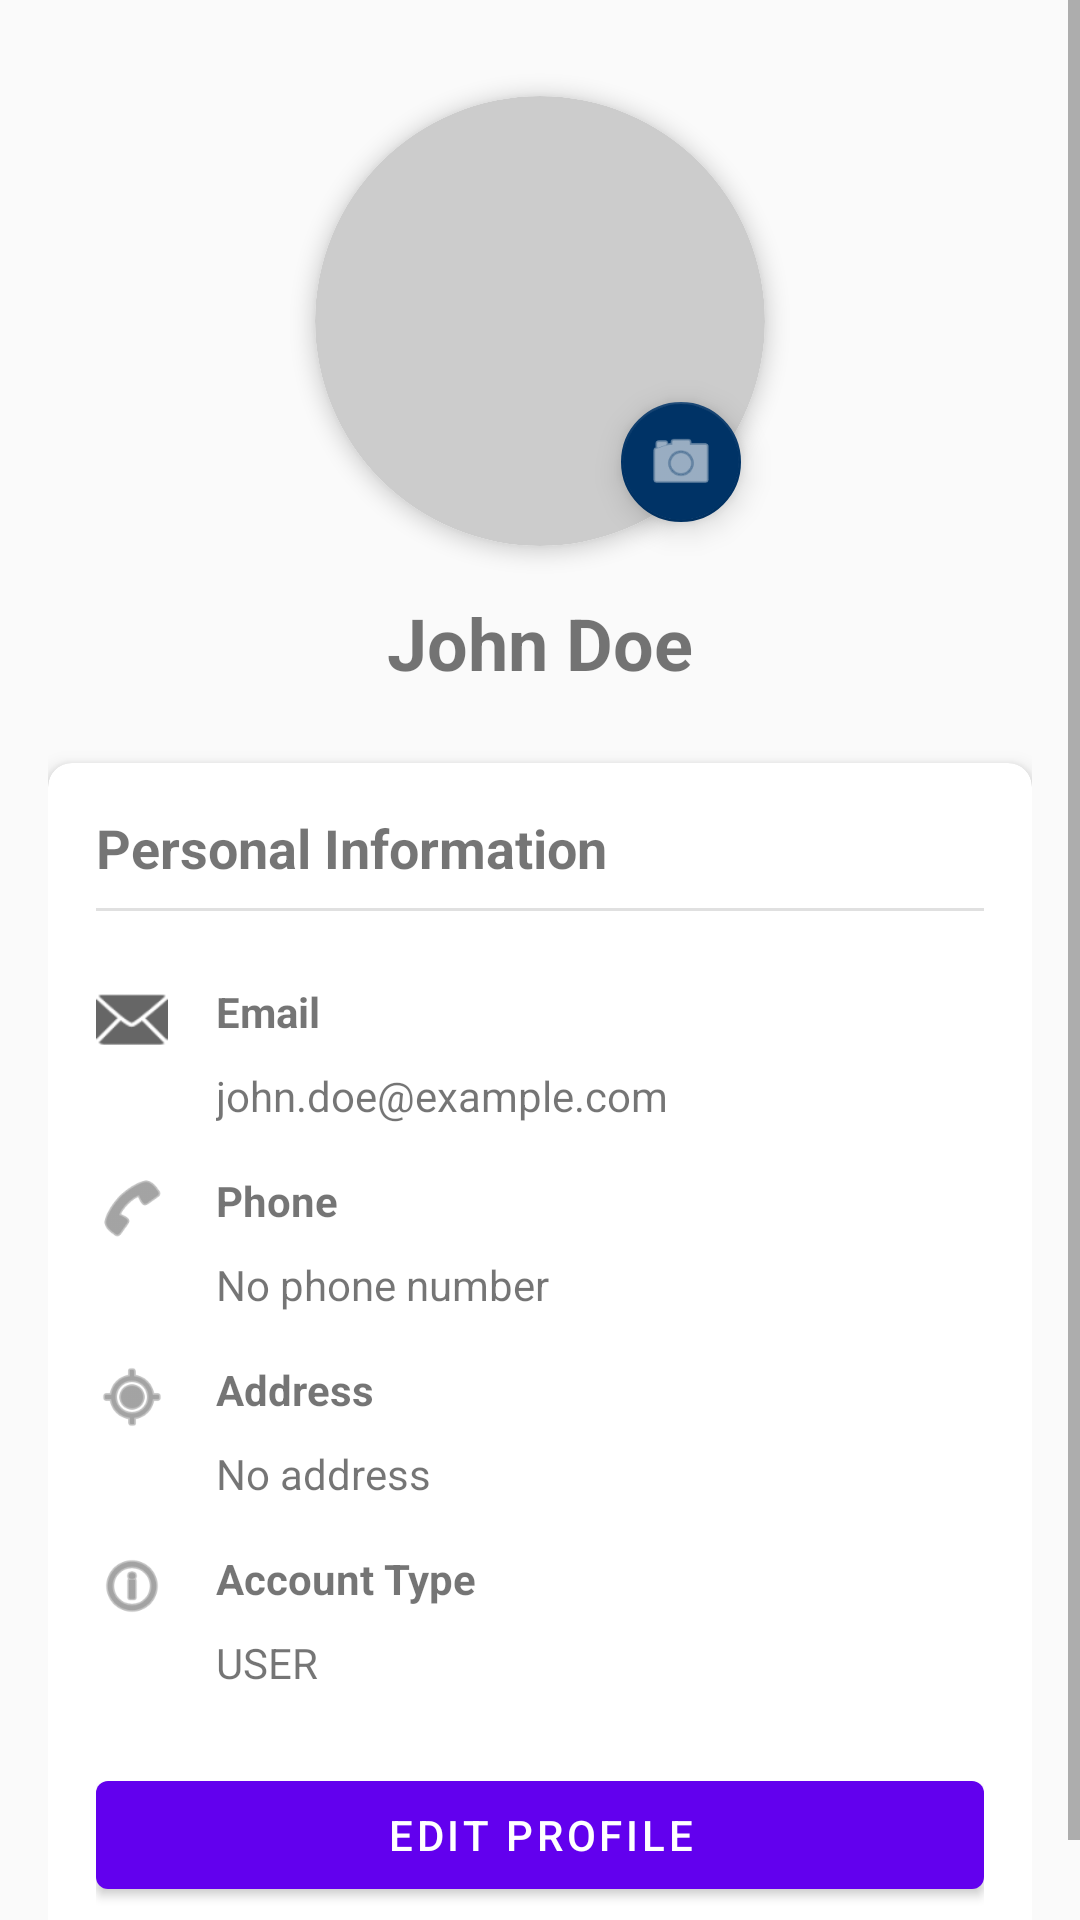

Locate icon controls on the screen. Image size 1080x1920, boxes as (left=x1, top=y1, right=x2, bottom=y2).
call: (left=104, top=1180, right=160, bottom=1236)
info details: (left=106, top=1560, right=158, bottom=1612)
mylocation: (left=103, top=1368, right=161, bottom=1426)
